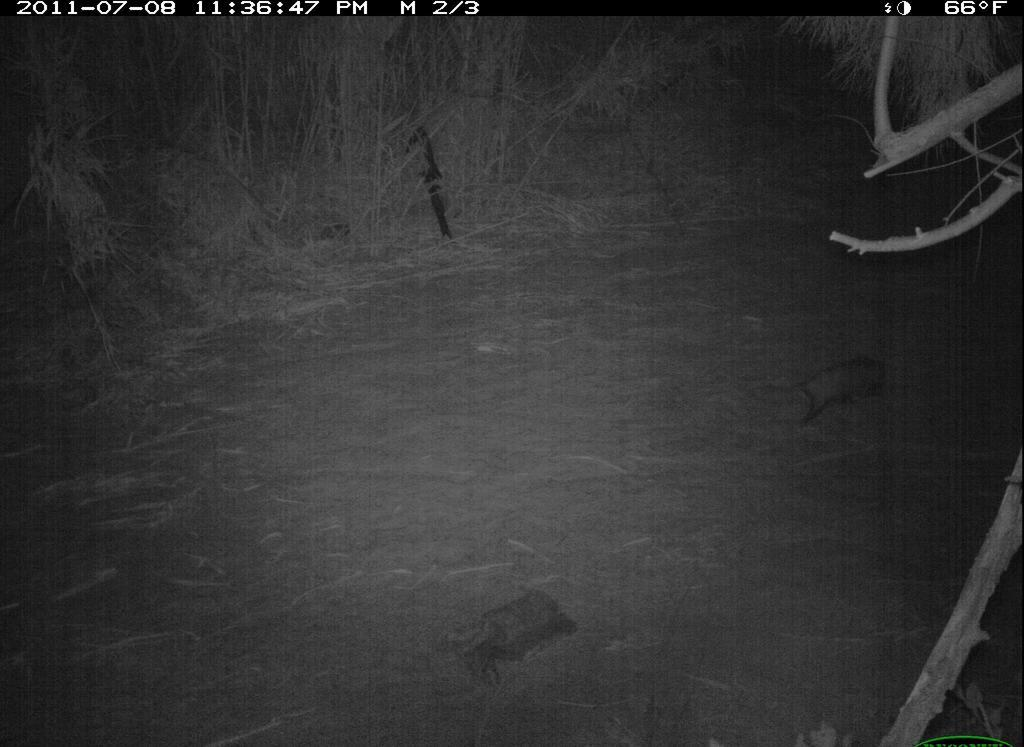opossum: (794, 344, 905, 428)
